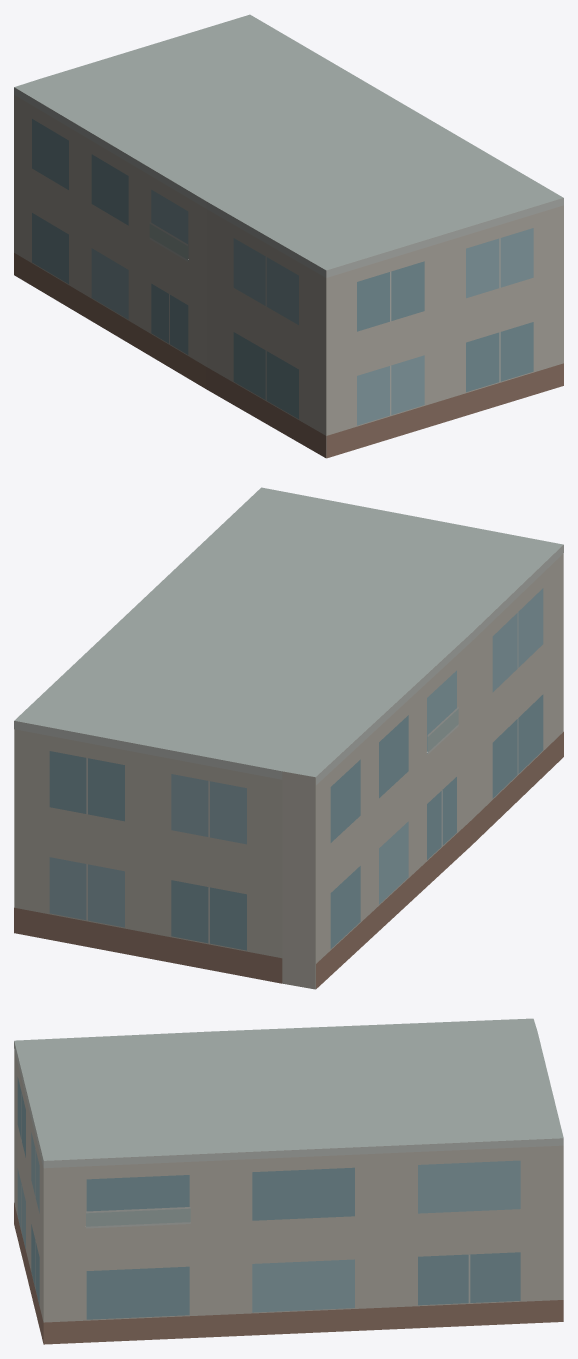
Rendered from survey-upis-32621562.glb.
3 renders of one model, top to bottom at view 1: azimuth 30°, elevation 25°; view 2: azimuth 150°, elevation 25°; view 3: azimuth 270°, elevation 25°, orthographic. The views are drawn at different scales.
Visible parts, largest first — view 1: survey-upis-32621562.tmp; view 2: survey-upis-32621562.tmp; view 3: survey-upis-32621562.tmp.
Part boxes in pixels (<box>): survey-upis-32621562.tmp: <box>14,14,563,458</box>; survey-upis-32621562.tmp: <box>14,487,563,989</box>; survey-upis-32621562.tmp: <box>14,1018,563,1344</box>.
Bounding box in the file's own units: 10.17 × 6.1 × 16.57.
